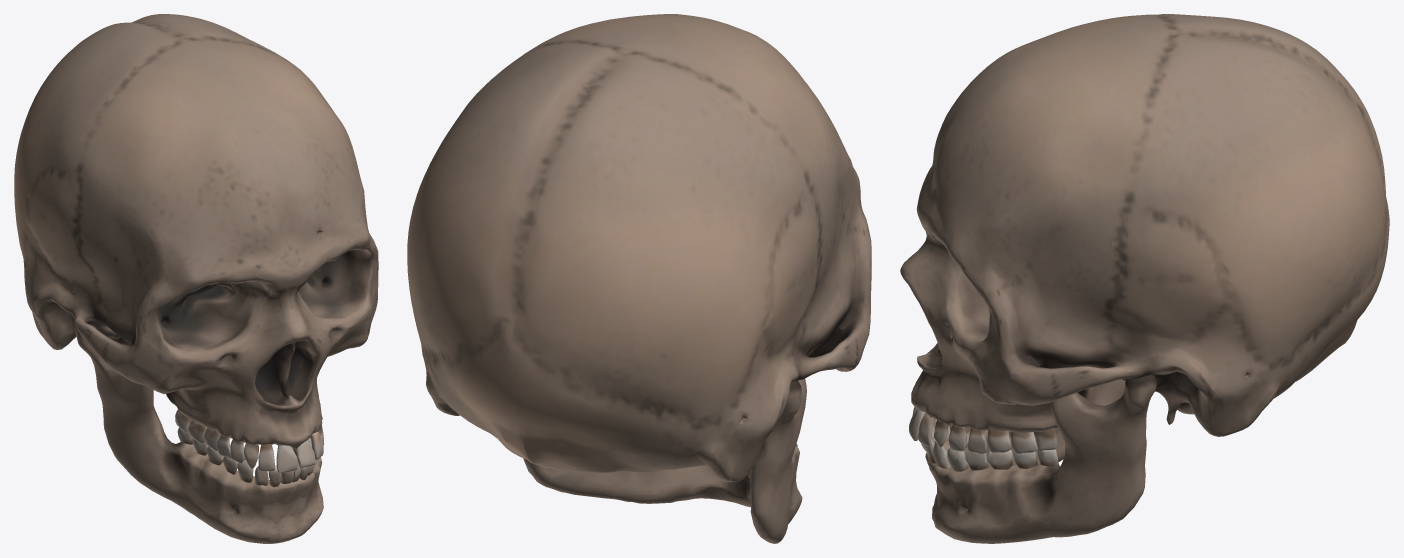
Rendered from skull.gltf.
The picture shows the model from 3 angles, left to right: view 1: azimuth 30°, elevation 25°; view 2: azimuth 150°, elevation 25°; view 3: azimuth 270°, elevation 25°; orthographic projection. The views are drawn at different scales.
Parts seen in each view (by area): view 1: Object_2; view 2: Object_2; view 3: Object_2.
Part boxes in pixels (<box>): Object_2: <box>14,14,378,543</box>; Object_2: <box>407,14,871,543</box>; Object_2: <box>900,14,1389,543</box>.
Size of the model in its own units: 1.34 by 2 by 1.79.
Materials: 1 (1 with a texture image).
